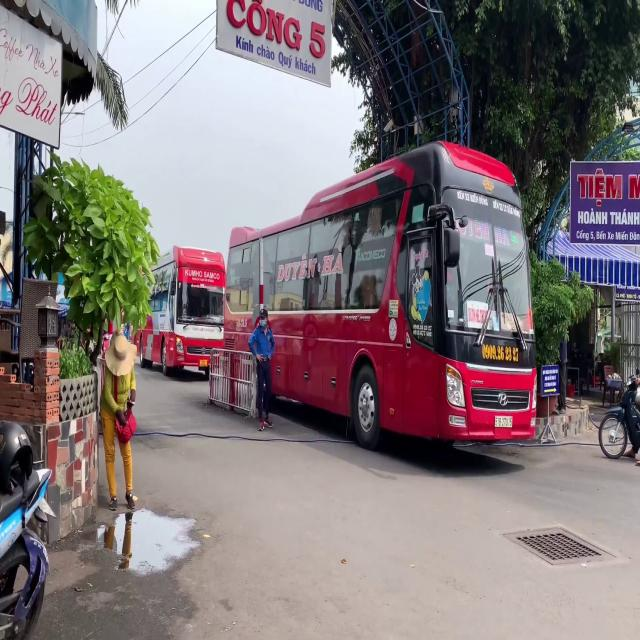bien_trang: (495, 416, 512, 428)
bien_vang: (200, 360, 207, 369)
